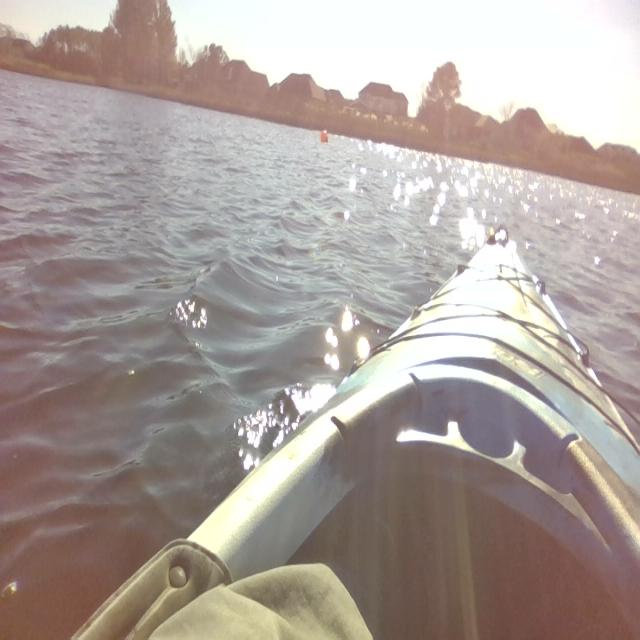Buoy: (317, 122, 330, 148)
